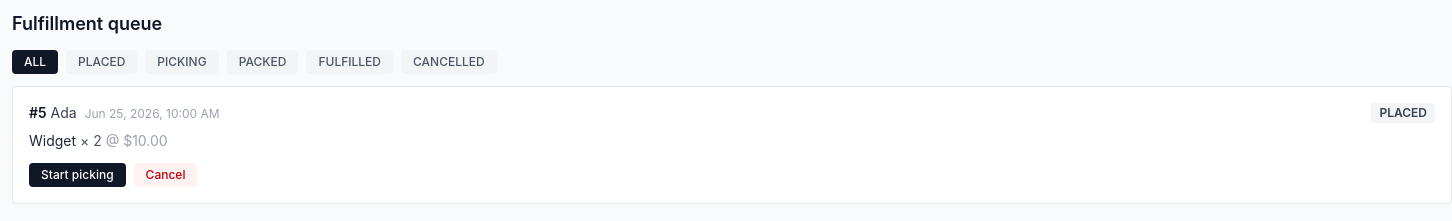
Scenario: OrderQueue › AC-M4.3.5: disables actions while a transition is in flight
Expected: the text "Ada" is shown, [50,104,77,121]
What coordinates should you click on to do the following:
click the button "Start picking"
I would click on:
 (77, 175)
Its box is [29,163,126,187].
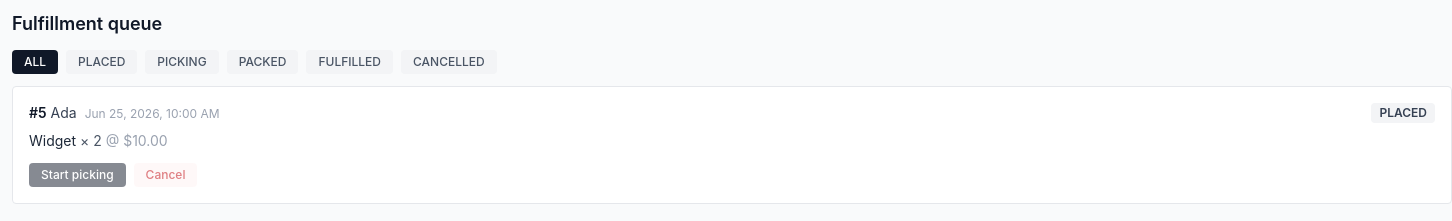
Result: the button "Start picking" is disabled at [29,163,126,187]
